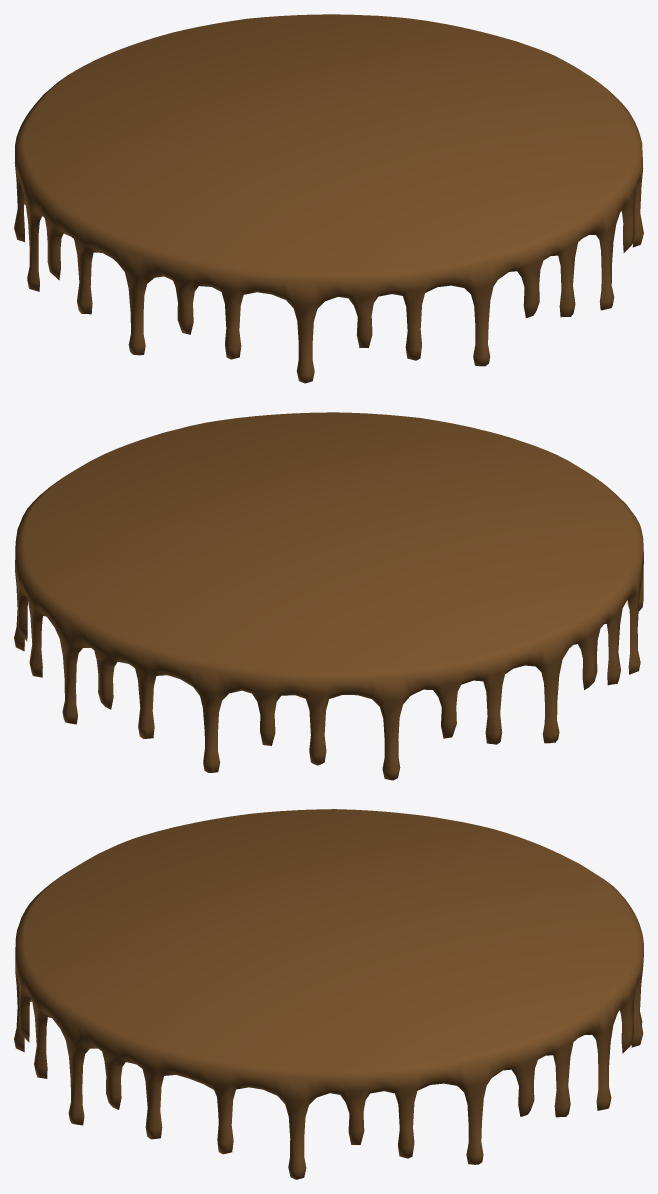
Rendered from Cake_Med_itemsTop_icing-ShortDrops.FBX.
3 views of the same model, one above another, from view 1: azimuth 30°, elevation 25°; view 2: azimuth 150°, elevation 25°; view 3: azimuth 270°, elevation 25° (orthographic).
Parts seen in each view (by area): view 1: Cake_Med_itemsTop_icing-ShortDrops; view 2: Cake_Med_itemsTop_icing-ShortDrops; view 3: Cake_Med_itemsTop_icing-ShortDrops.
Part boxes in pixels (box(x1,y1,x2,y2)): Cake_Med_itemsTop_icing-ShortDrops: box(14, 14, 643, 383); Cake_Med_itemsTop_icing-ShortDrops: box(14, 412, 643, 780); Cake_Med_itemsTop_icing-ShortDrops: box(14, 809, 643, 1179).
Bounding box in the file's own units: 7598 × 1502 × 7591.
